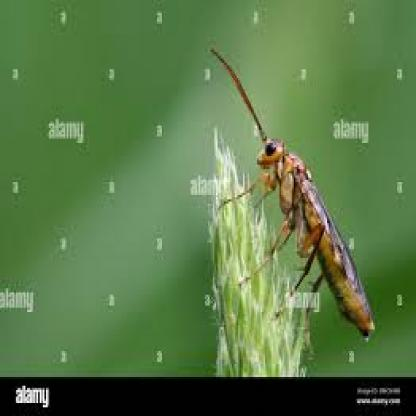sawfly: (210, 52, 374, 352)
